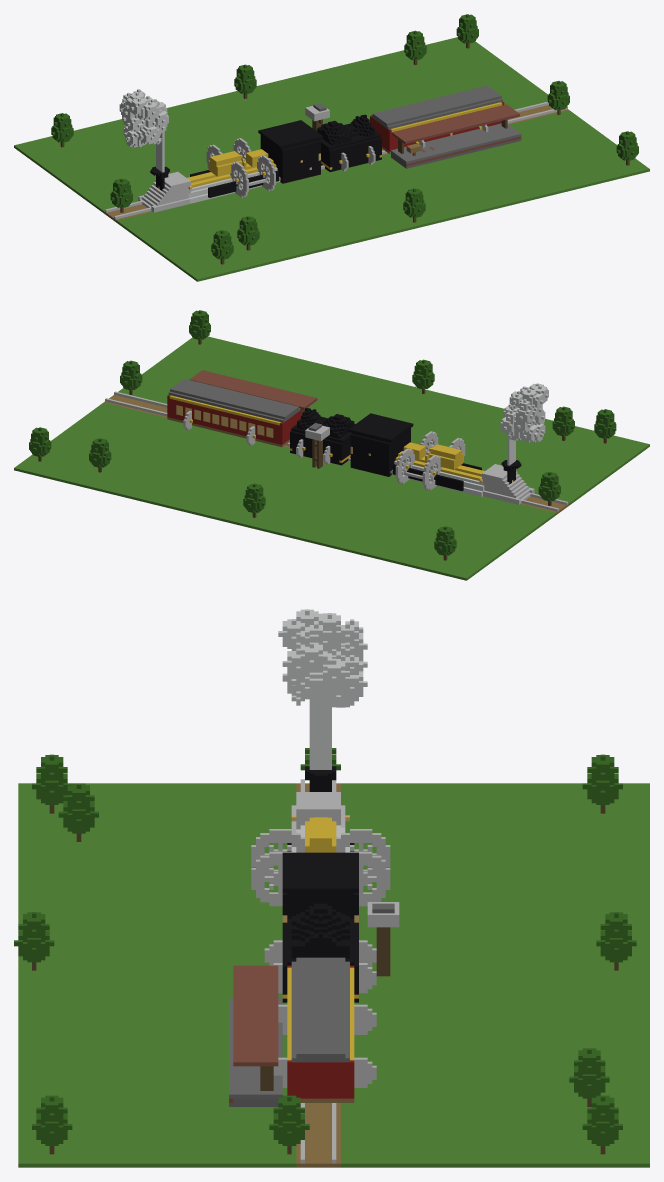
3 views of the same model, one above another, from view 1: azimuth 30°, elevation 25°; view 2: azimuth 150°, elevation 25°; view 3: azimuth 270°, elevation 25° (orthographic). The views are drawn at different scales.
Size of the model in its own units: 201 by 49 by 142.
